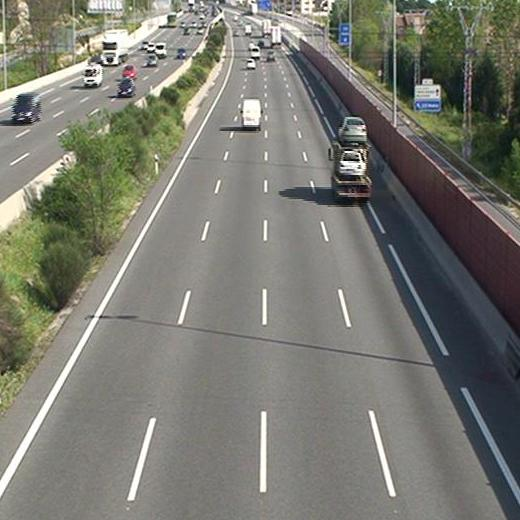car: (338, 117, 366, 141), (340, 152, 365, 177), (245, 58, 255, 69), (266, 51, 273, 61)
small-truck: (330, 131, 370, 200)
van: (242, 99, 261, 128), (250, 47, 260, 61)
